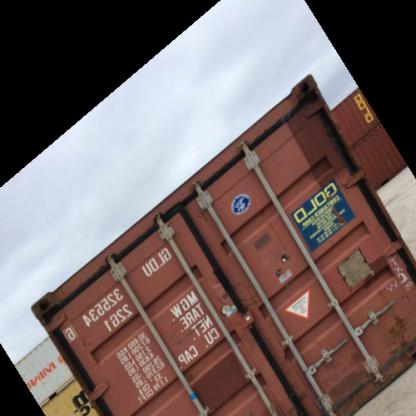Damage: (165, 327, 203, 382), (281, 373, 335, 409), (209, 270, 260, 308), (345, 345, 386, 390), (379, 305, 411, 348), (270, 246, 293, 286), (248, 232, 274, 248), (276, 337, 300, 351)
